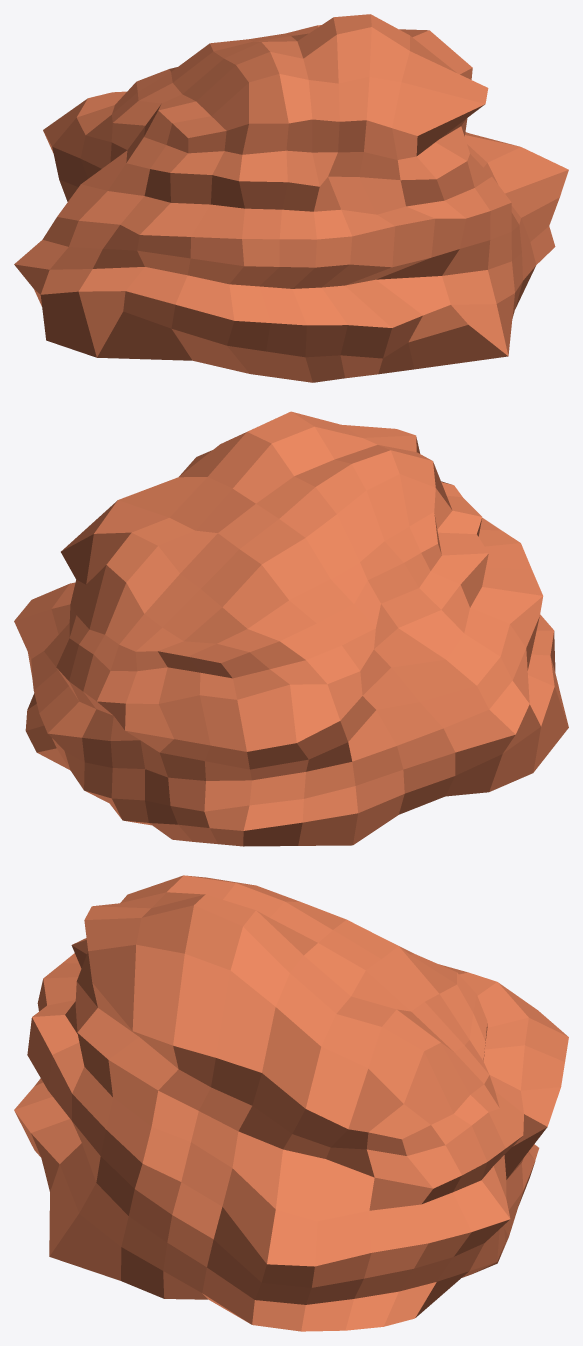
The model's file is stone12.fbx.
3 renders of one model, top to bottom at view 1: azimuth 30°, elevation 25°; view 2: azimuth 150°, elevation 25°; view 3: azimuth 270°, elevation 25°, orthographic. The views are drawn at different scales.
Visible parts, largest first — view 1: bigstone1; view 2: bigstone1; view 3: bigstone1.
Boxes of the visible parts, bbox=[...] form: bigstone1: bbox=[14, 14, 568, 382]; bigstone1: bbox=[14, 411, 568, 846]; bigstone1: bbox=[14, 875, 568, 1331].
Bounding box in the file's own units: 1514 × 926 × 1300.
